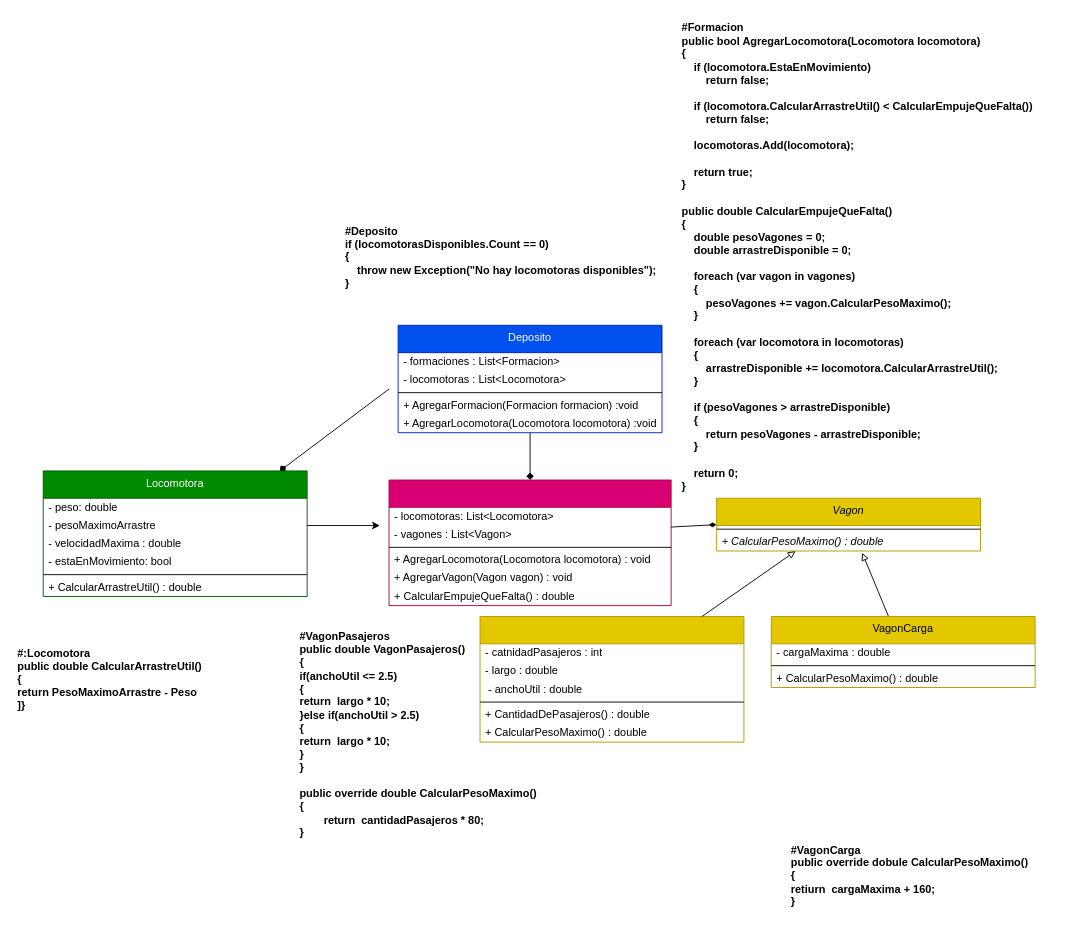
Image size: 1068x932. Some labels were removed from this diagram. The box of each missing label's shape, as (x1, y1, x2, y2) in pixels:
Formacion: (388, 479, 671, 606)
VagonPasajeros: (479, 616, 744, 742)
